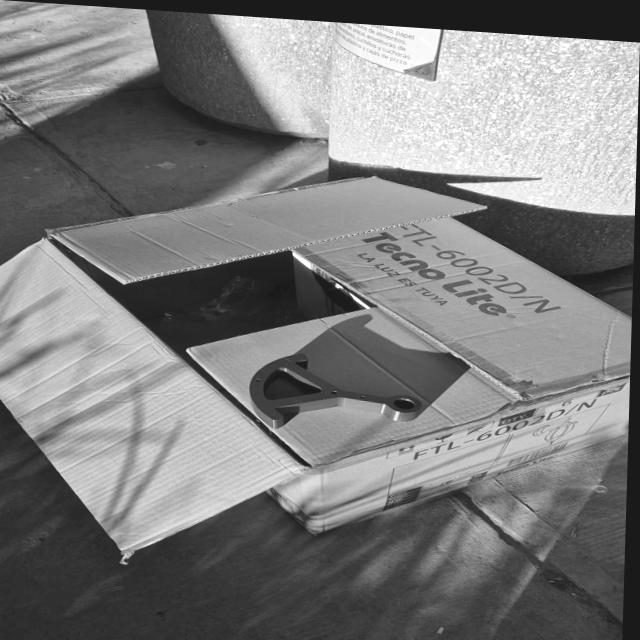haptic: (246, 350, 424, 439)
